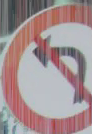Don't turn left: (8, 7, 88, 119)
